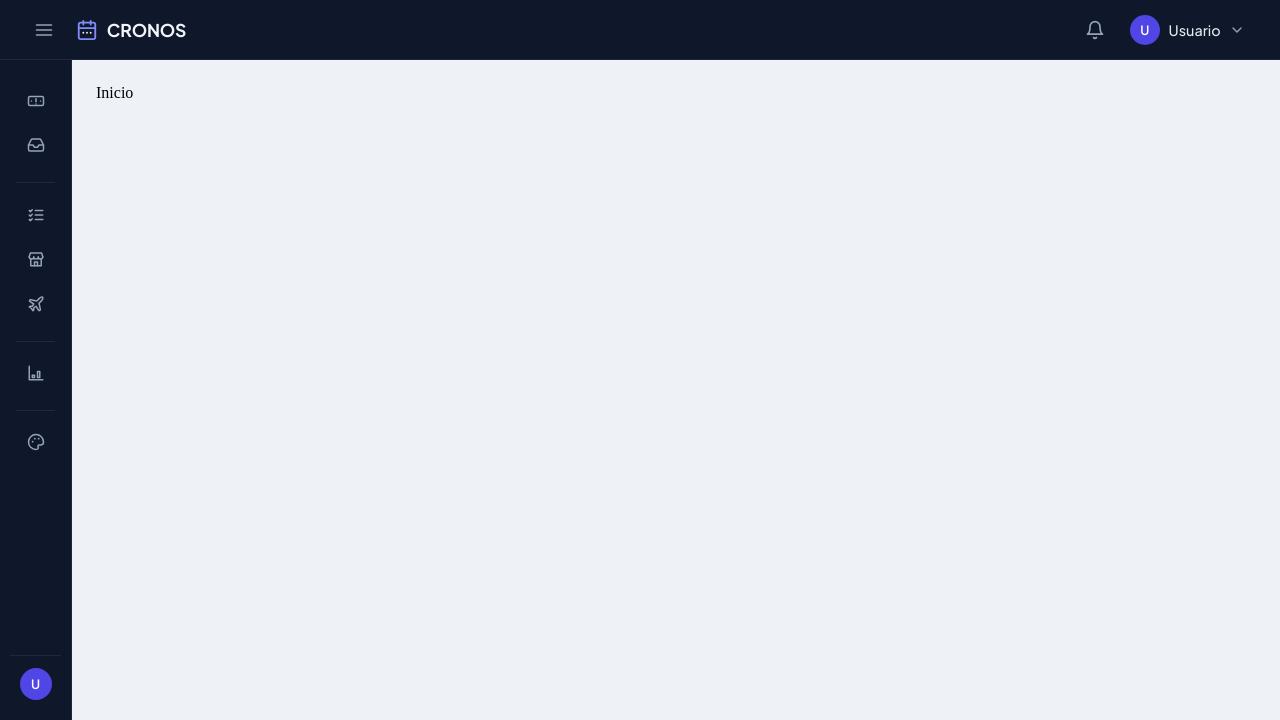
Scenario: Layout Mis tareas navigation › hides Mi almuerzo for an Admin Master while keeping Calendario del área hidden and the lunch route available
Later steps or results of the test are not shown.
El menú inicia contraído: se expande para ver nombres y el rol del usuario.
Click the button named "Expandir menú".
click(44, 30)  # box x1=24 y1=10 x2=64 y2=50
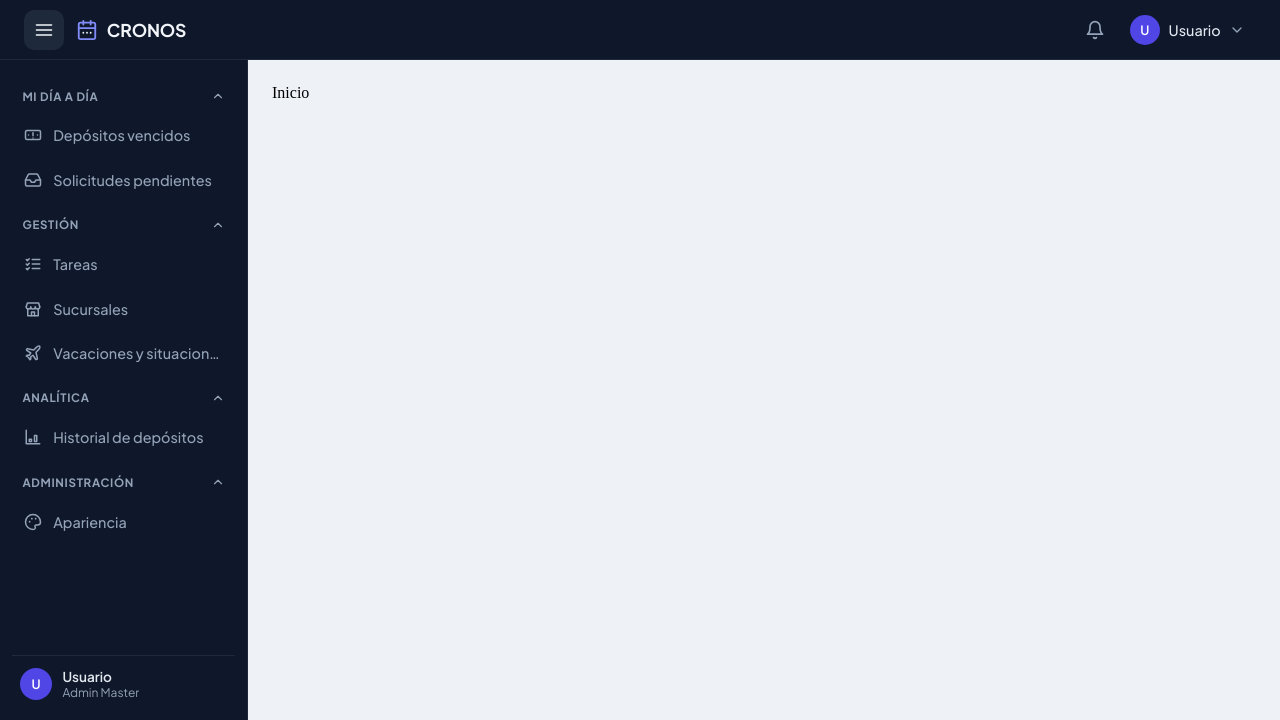
Expected: the text "Admin Master" is shown, x1=62 y1=685 x2=139 y2=700
